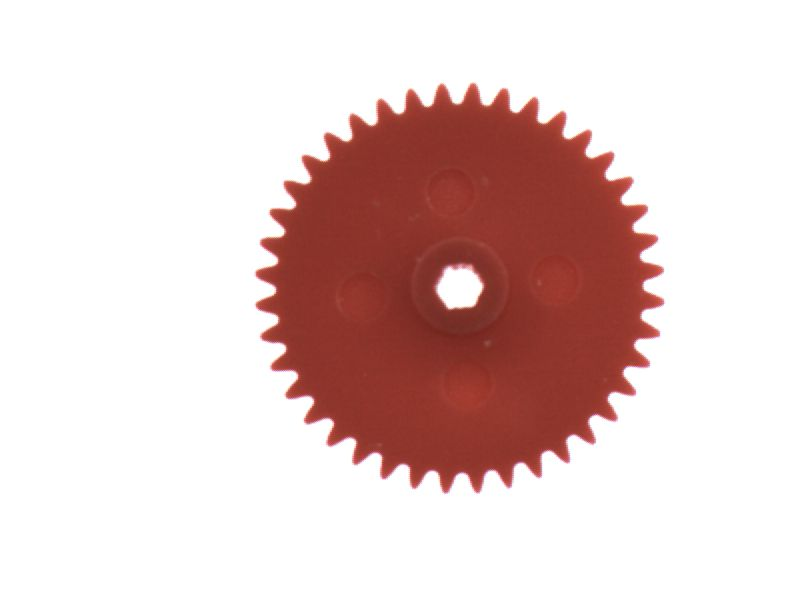good_product: (232, 68, 681, 509)
